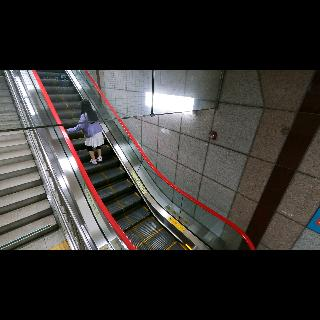normal: (66, 98, 104, 164)
